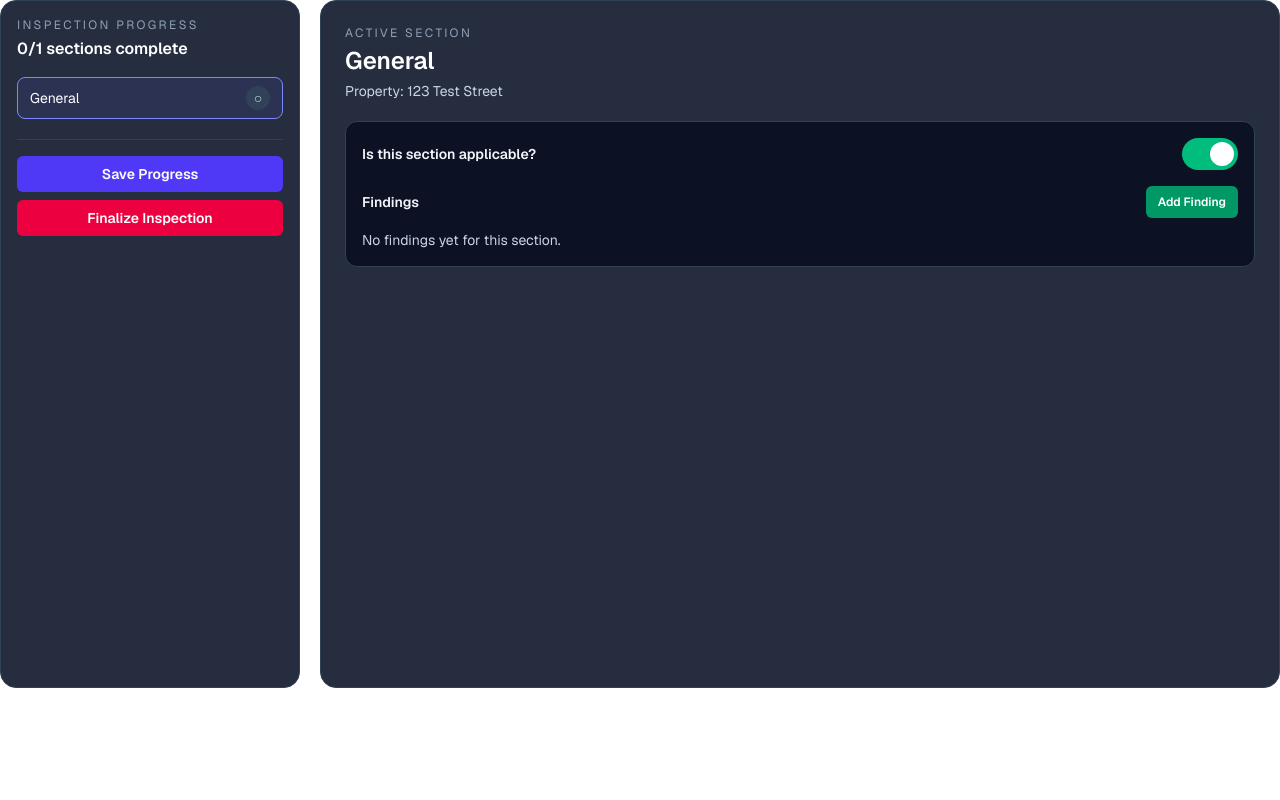
Test: InspectionWorkspace › supports manual save, finalize, and revert flow
Expected: the text "Active Section" is shown, [345, 25, 472, 41]
Step 1. Click the button "Save Progress" → (150, 174), box [17, 156, 283, 192]
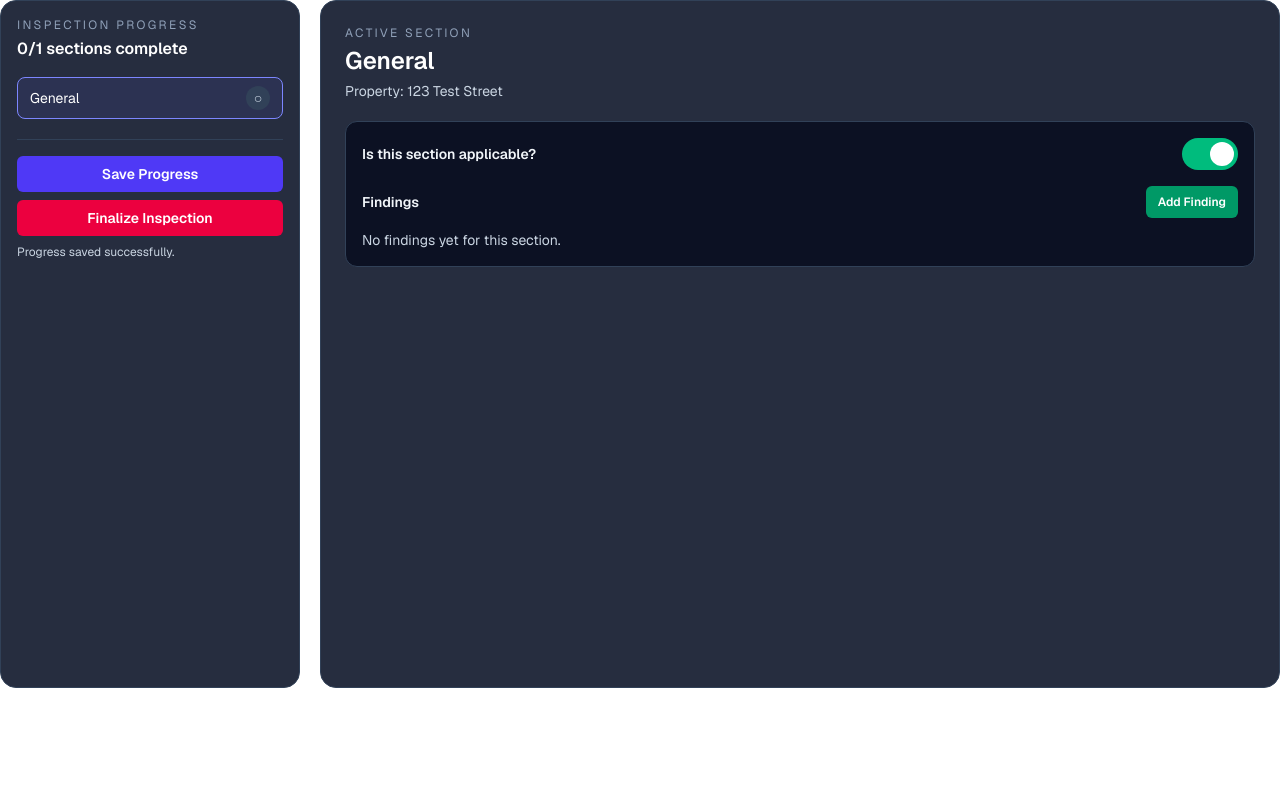
Step 2. Click the button "Finalize Inspection" → (150, 218), box [17, 200, 283, 236]
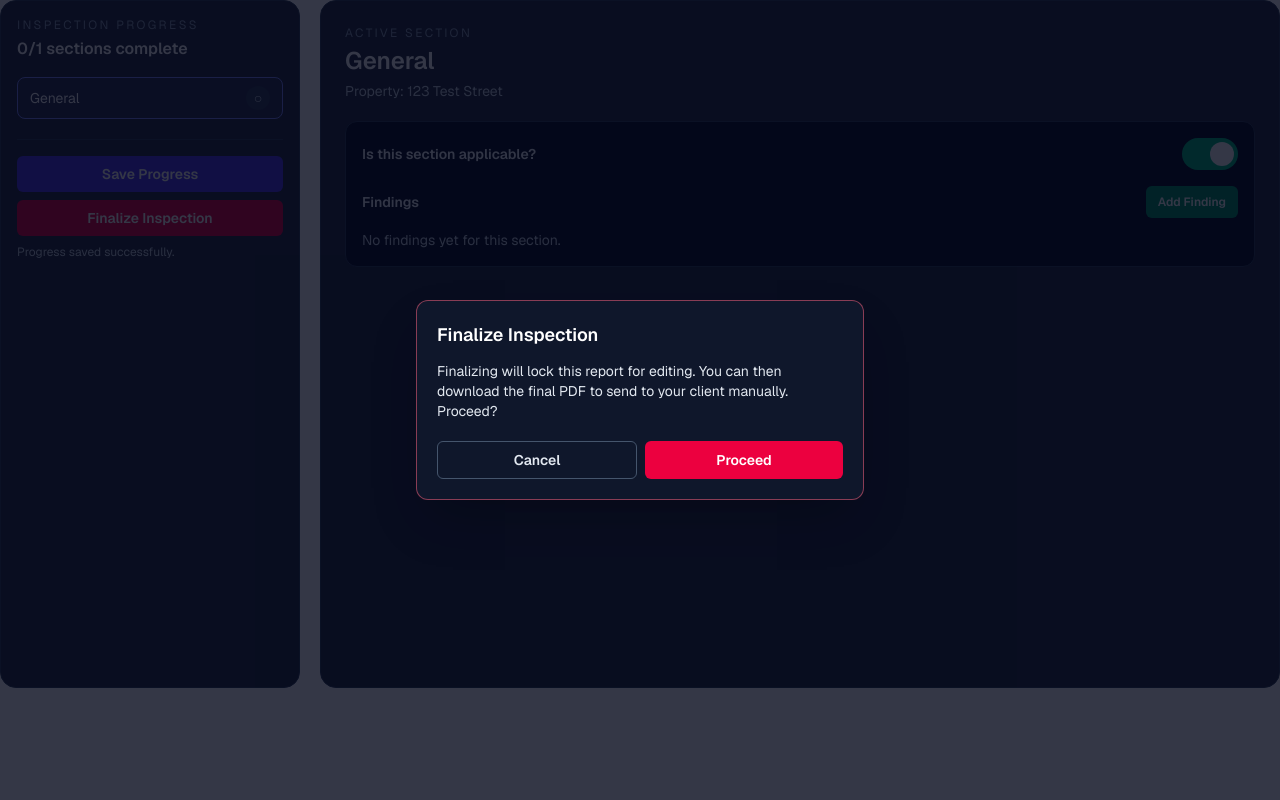
Expected: the heading "Finalize Inspection" is shown, [437, 323, 598, 346]
Step 3. Click the button "Proceed" → (744, 460), box [645, 441, 843, 479]
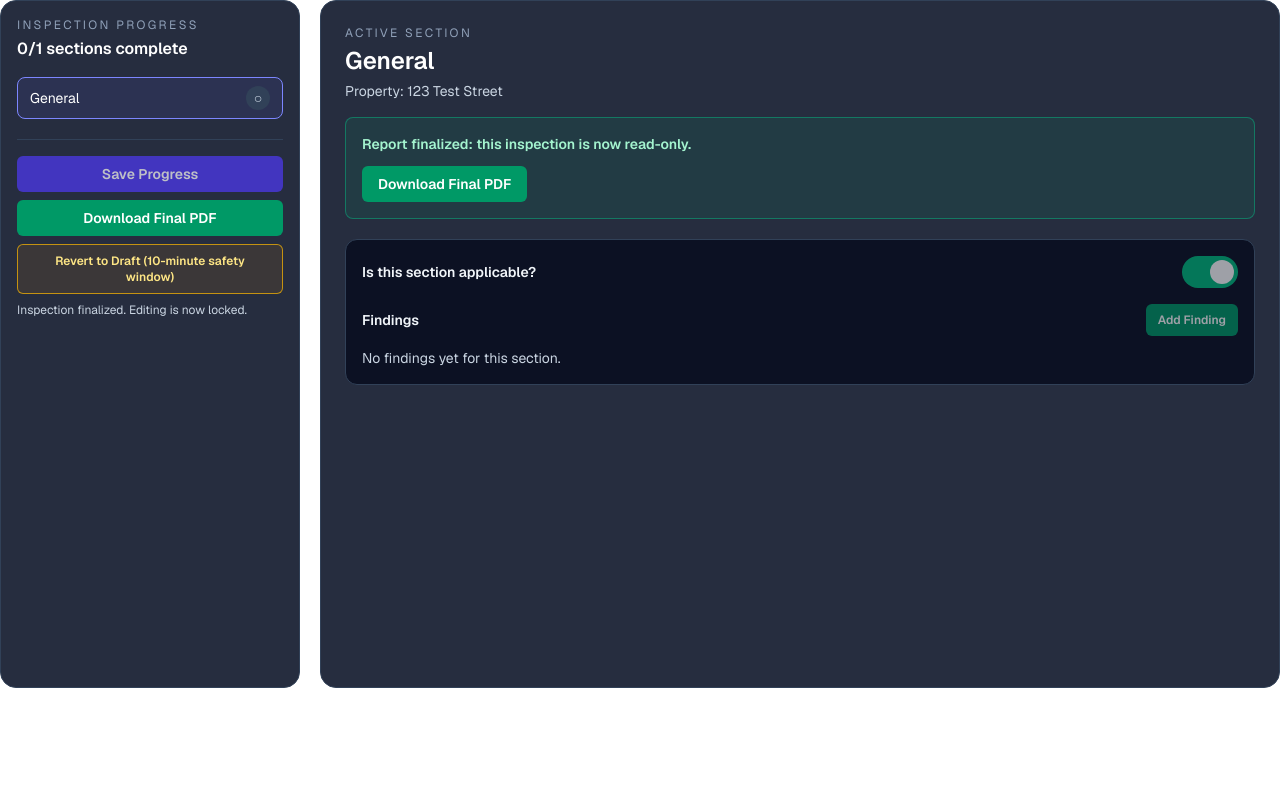
Expected: the text "Inspection finalized. Editing is now locked." is shown, [17, 302, 283, 322]
Expected: the link "Download Final PDF" below "sections complete" is shown, [17, 200, 283, 236]
Step 4. Click the button "Revert to Draft (10-minute safety window)" → (150, 269), box [17, 244, 283, 294]
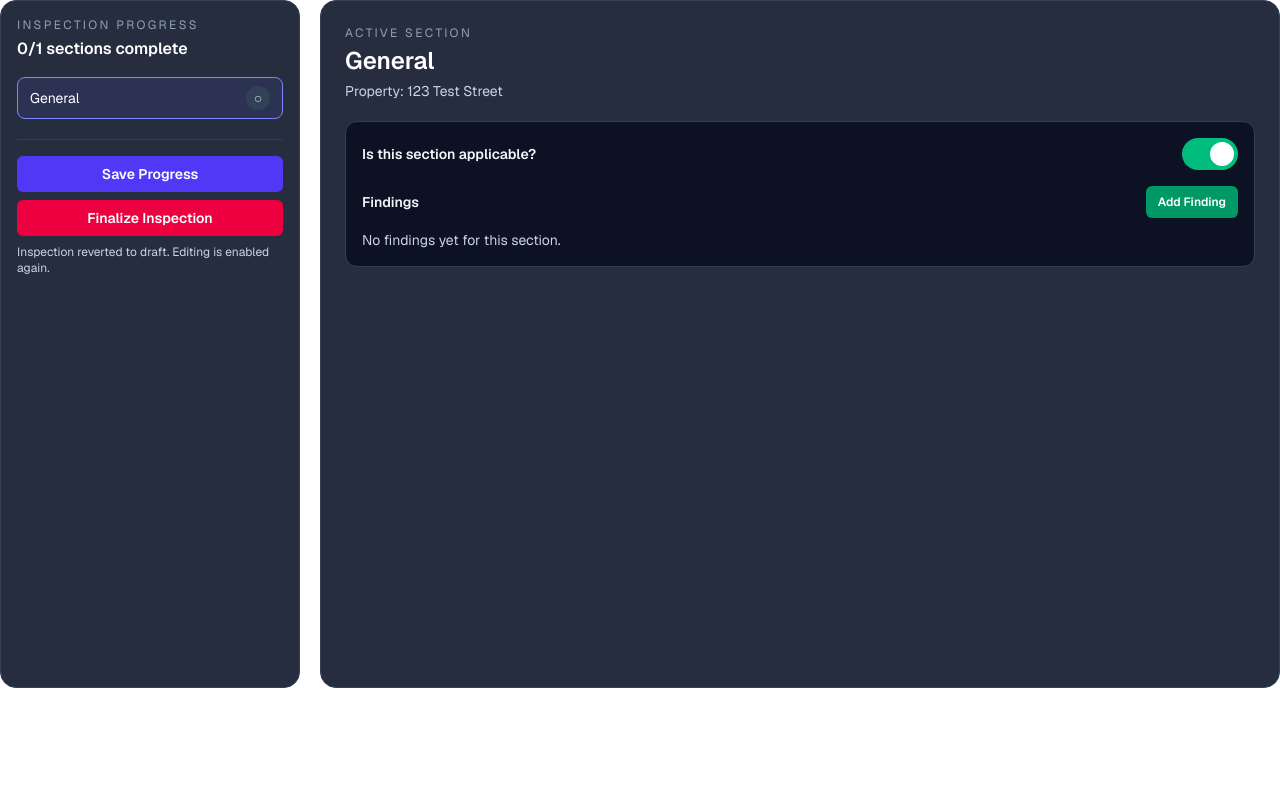
Expected: the text "Inspection reverted to draft. Editing is enabled again." is shown, [17, 244, 283, 276]
